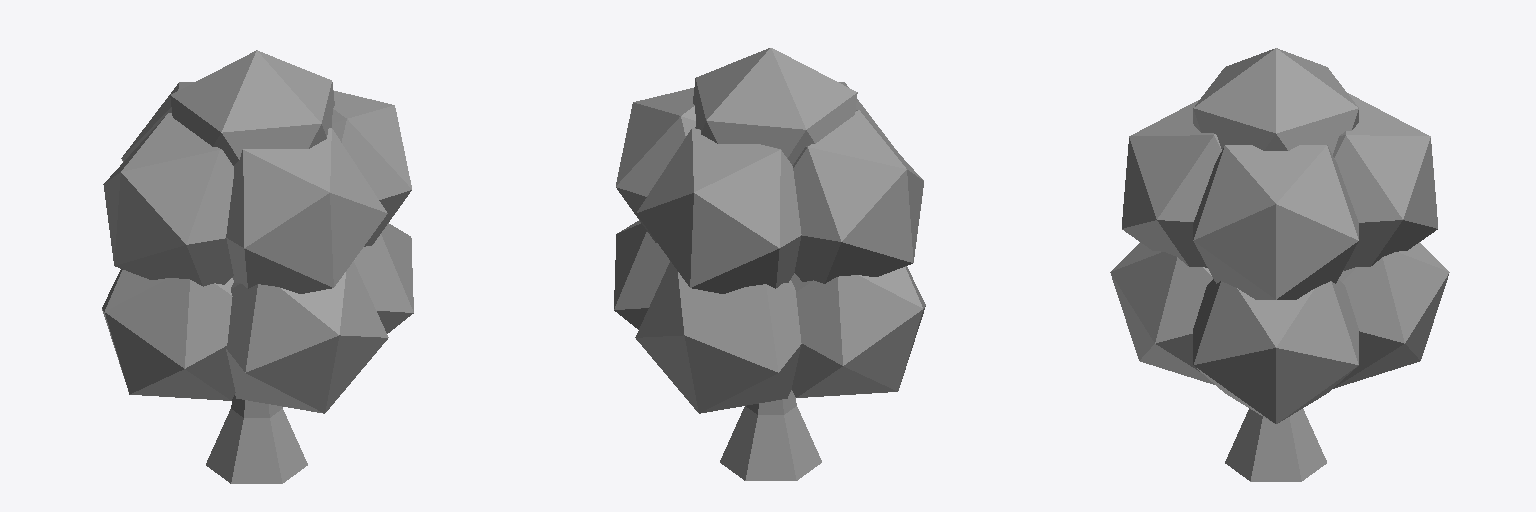
The model's file is SmallBush.obj.
3 renders of one model, left to right at view 1: azimuth 30°, elevation 25°; view 2: azimuth 150°, elevation 25°; view 3: azimuth 270°, elevation 25°, orthographic.
Visible parts, largest first — view 1: Cylinder_Cylinder.004; view 2: Cylinder_Cylinder.004; view 3: Cylinder_Cylinder.004.
Boxes of the visible parts, box(x1,y1,x2,y2) form: Cylinder_Cylinder.004: box(102, 50, 413, 483); Cylinder_Cylinder.004: box(614, 48, 925, 480); Cylinder_Cylinder.004: box(1110, 48, 1449, 481).
Size of the model in its own units: 0.4352 by 0.562 by 0.417.